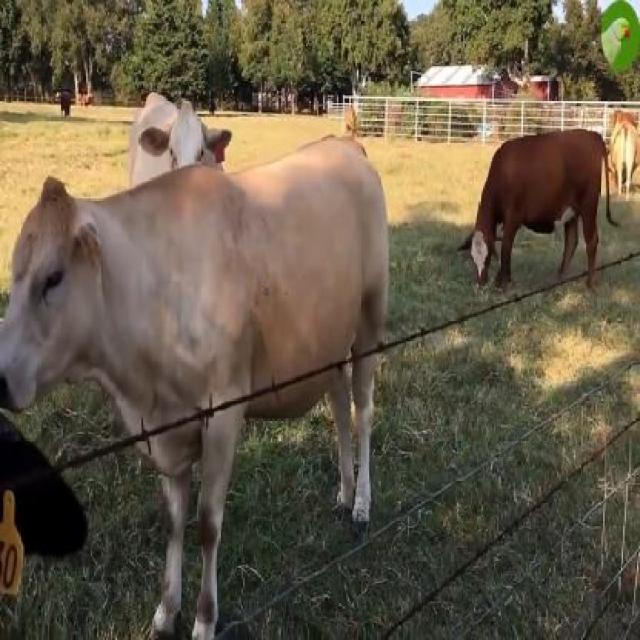Cow: (0, 138, 389, 614)
